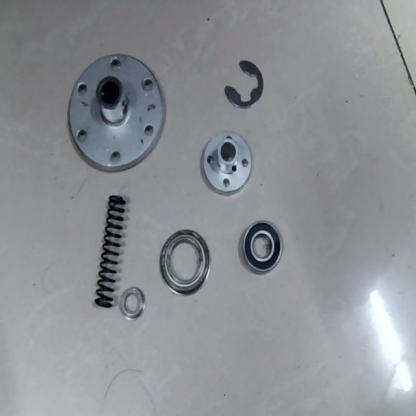FOD: (5, 2, 414, 411), (64, 47, 169, 176), (91, 188, 130, 317), (159, 225, 211, 300), (198, 132, 254, 199), (220, 57, 268, 111), (241, 221, 282, 272), (118, 285, 147, 321)
